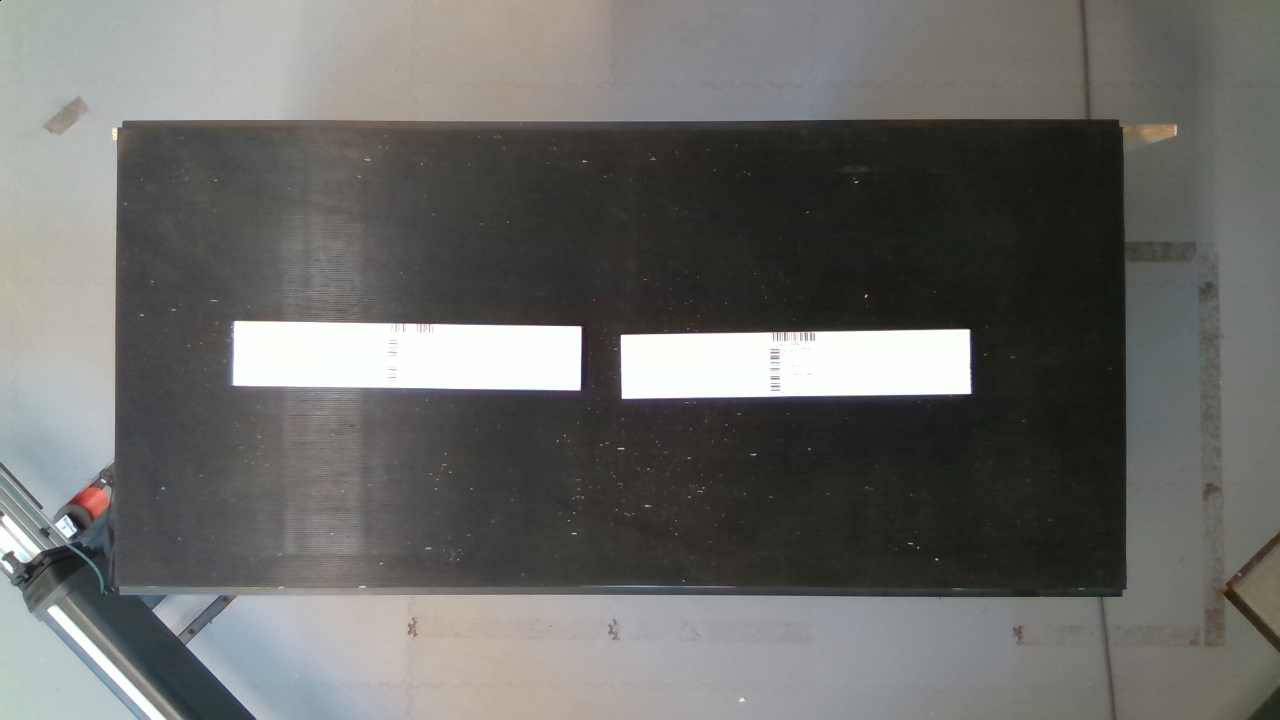barcode: (377, 319, 464, 389), (755, 320, 829, 396)
part1: (229, 310, 598, 412), (616, 321, 986, 417)
